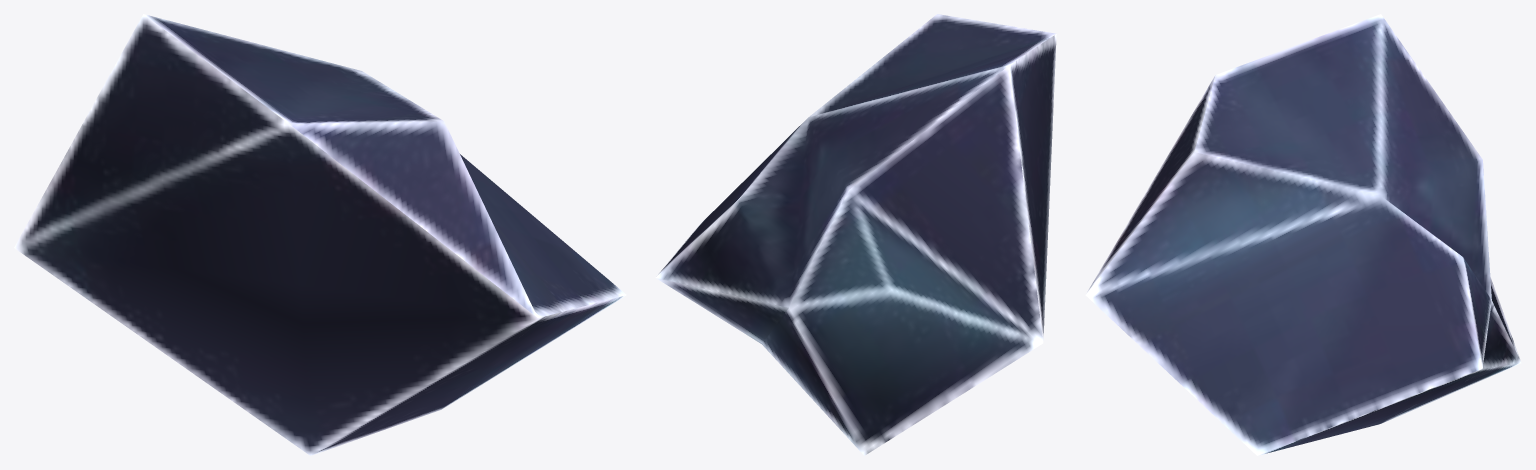
The model's file is rock_a.glb.
The picture shows the model from 3 angles, left to right: view 1: azimuth 30°, elevation 25°; view 2: azimuth 150°, elevation 25°; view 3: azimuth 270°, elevation 25°; orthographic projection. The views are drawn at different scales.
Visible parts, largest first — view 1: Rocks_5.001; view 2: Rocks_5.001; view 3: Rocks_5.001.
Boxes of the visible parts, x1,y1,x2,y2 form: Rocks_5.001: (14, 14, 626, 455); Rocks_5.001: (655, 14, 1056, 455); Rocks_5.001: (1085, 14, 1521, 455).
Bounding box in the file's own units: 1.02 × 0.8135 × 0.9328.
1 material, 1 textured.
